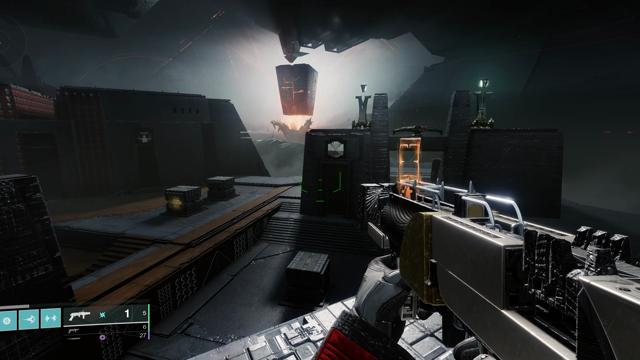commune: (328, 141, 344, 157)
drink: (137, 130, 152, 143)
